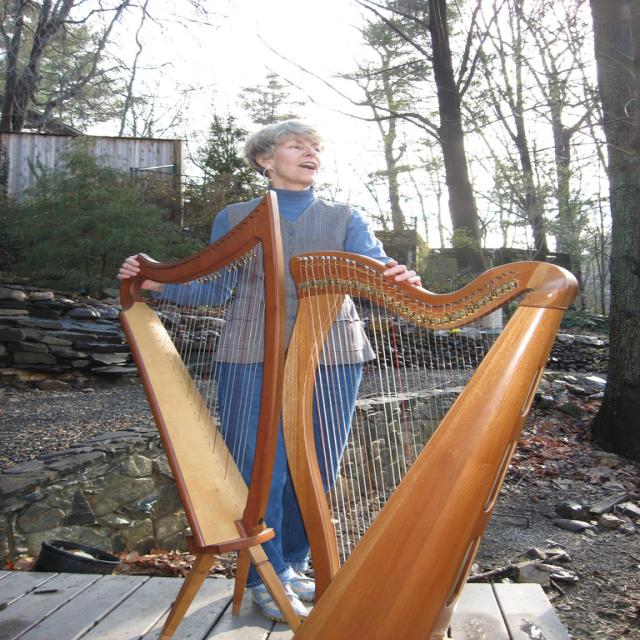harp: (271, 239, 578, 640), (102, 187, 282, 567)
